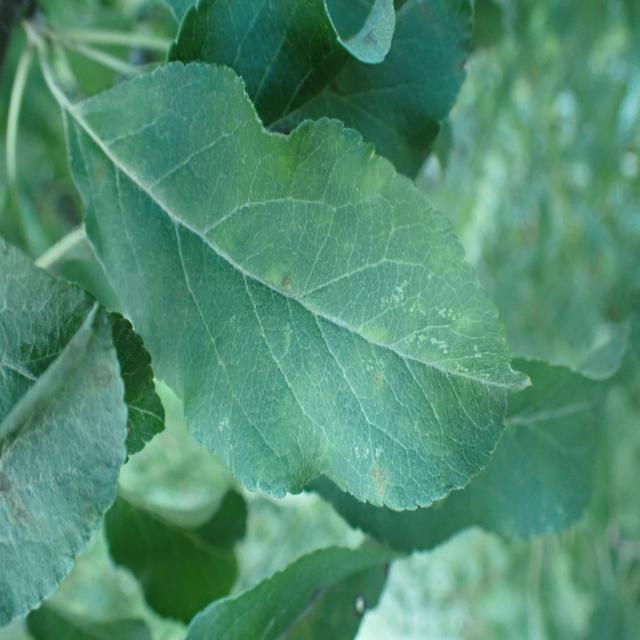scab: (168, 191, 444, 509), (2, 255, 129, 620)
